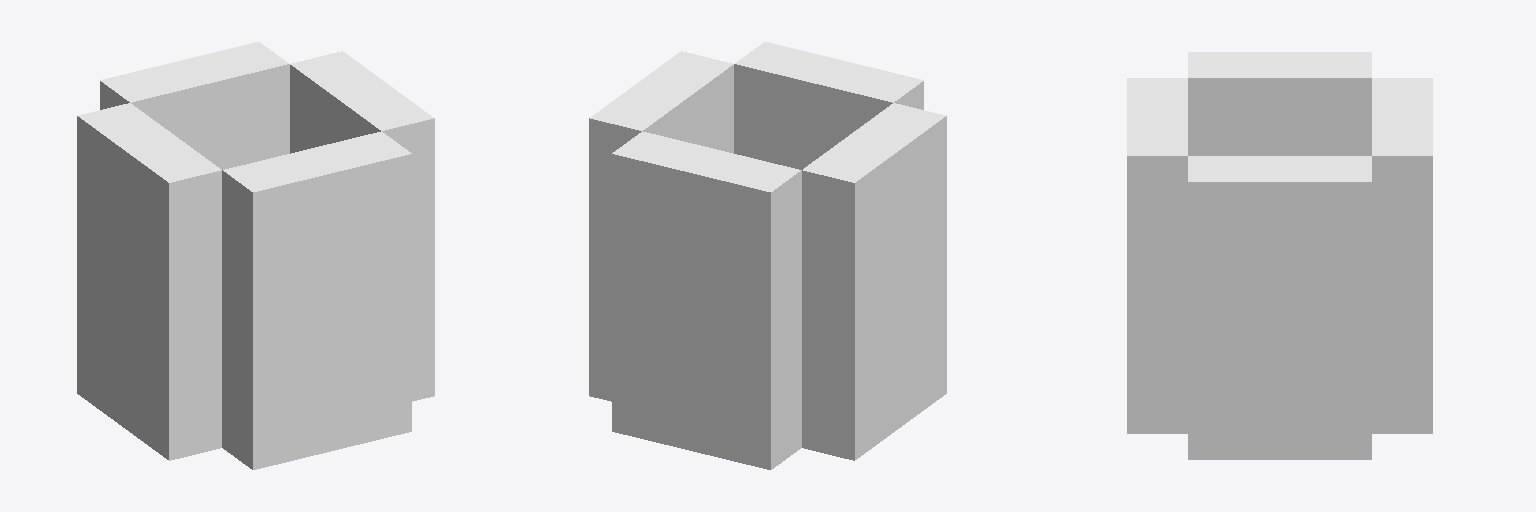
The model's file is saucetomatebocale.obj.
3 renders of one model, left to right at view 1: azimuth 30°, elevation 25°; view 2: azimuth 150°, elevation 25°; view 3: azimuth 270°, elevation 25°, orthographic.
Visible parts, largest first — view 1: saucetomatebocale; view 2: saucetomatebocale; view 3: saucetomatebocale.
Part boxes in pixels (bbox=[...]): saucetomatebocale: bbox=[77, 42, 434, 469]; saucetomatebocale: bbox=[589, 42, 946, 469]; saucetomatebocale: bbox=[1127, 52, 1432, 459].
Size of the model in its own units: 5 by 5 by 5.